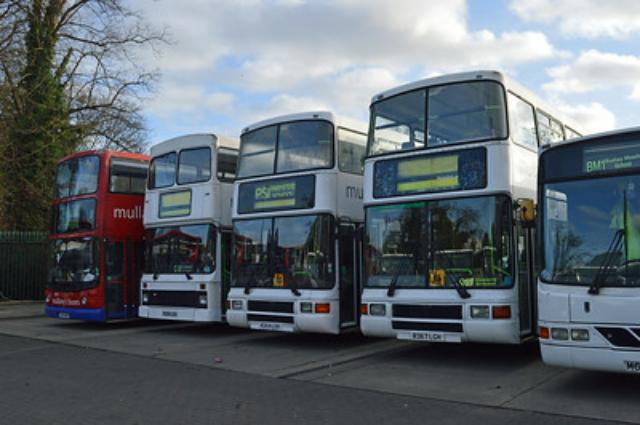bus: (358, 72, 538, 347), (226, 109, 362, 338), (536, 125, 640, 374), (43, 149, 144, 326), (139, 133, 229, 323)
